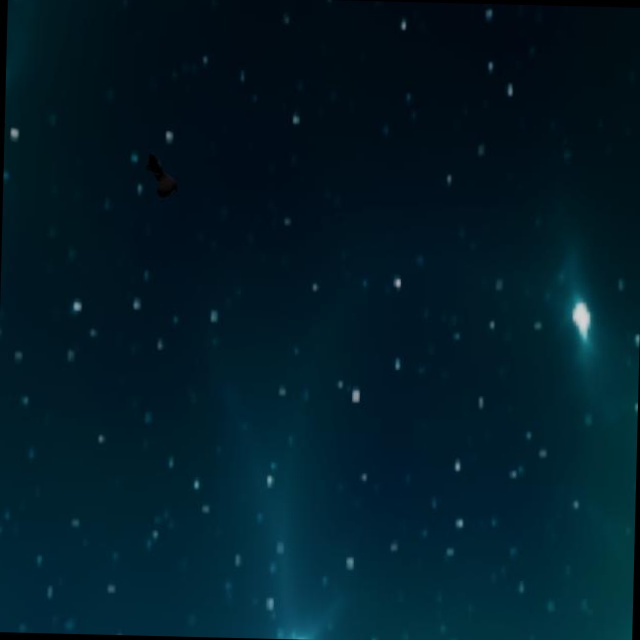large_debris: (142, 147, 176, 211)
